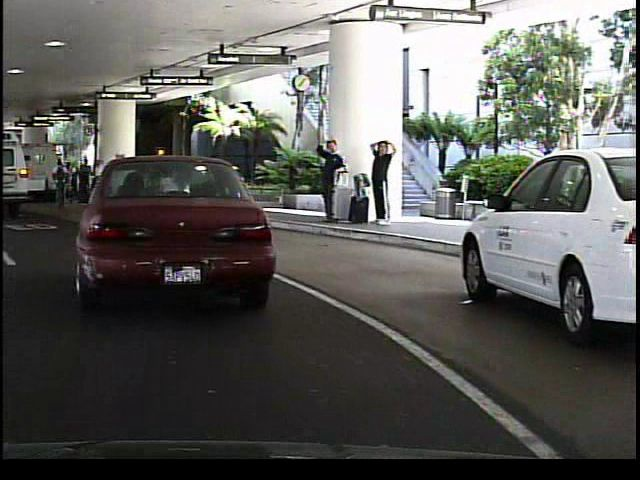person: (312, 134, 344, 223), (365, 135, 394, 228), (342, 150, 363, 220), (197, 151, 222, 209)
